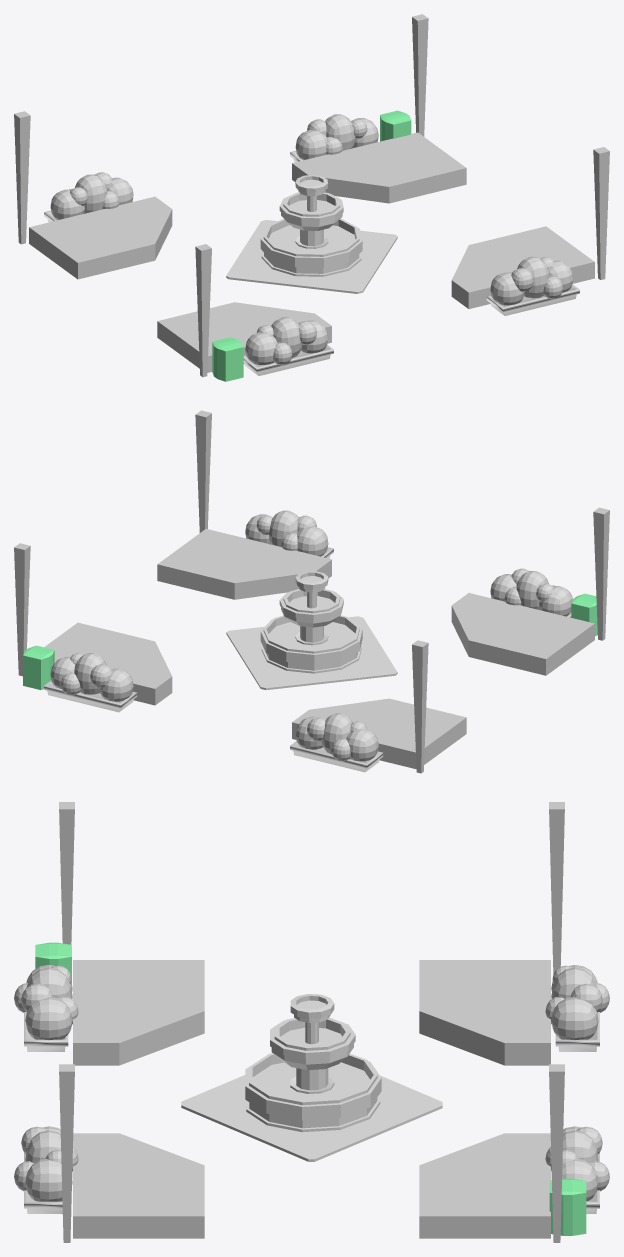
The model's file is taman_air muncur.fbx.
The picture shows the model from 3 angles, top to bottom: view 1: azimuth 30°, elevation 25°; view 2: azimuth 150°, elevation 25°; view 3: azimuth 270°, elevation 25°; orthographic projection. The views are drawn at different scales.
Visible parts, largest first — view 1: Cube, Cube.004, Cylinder, Cube.017, Plane.001, Cube.015, Cube.016; view 2: Cube, Cube.004, Cylinder, Cube.017, Plane.001, Cube.016, Cube.015; view 3: Cube, Cube.004, Cylinder, Cube.017, Plane.001, Cube.016, Cube.015.
Boxes of the visible parts, x1=… form: Cube: x1=29, y1=132, x2=594, y2=372; Cube.004: x1=44, y1=114, x2=579, y2=375; Cylinder: x1=260, y1=174, x2=362, y2=276; Cube.017: x1=14, y1=14, x2=609, y2=377; Plane.001: x1=226, y1=220, x2=397, y2=293; Cube.015: x1=212, y1=337, x2=243, y2=381; Cube.016: x1=380, y1=110, x2=411, y2=141; Cube: x1=44, y1=528, x2=594, y2=768; Cube.004: x1=44, y1=510, x2=572, y2=772; Cylinder: x1=260, y1=571, x2=362, y2=673; Cube.017: x1=14, y1=410, x2=609, y2=773; Plane.001: x1=226, y1=616, x2=397, y2=690; Cube.016: x1=23, y1=645, x2=54, y2=689; Cube.015: x1=571, y1=593, x2=597, y2=635; Cube: x1=73, y1=960, x2=550, y2=1238; Cube.004: x1=14, y1=965, x2=609, y2=1213; Cylinder: x1=245, y1=994, x2=381, y2=1132; Cube.017: x1=59, y1=802, x2=564, y2=1242; Plane.001: x1=181, y1=1075, x2=442, y2=1161; Cube.016: x1=549, y1=1178, x2=586, y2=1235; Cube.015: x1=35, y1=942, x2=71, y2=983.
Bounding box in the file's own units: 1851 × 559 × 1731.
